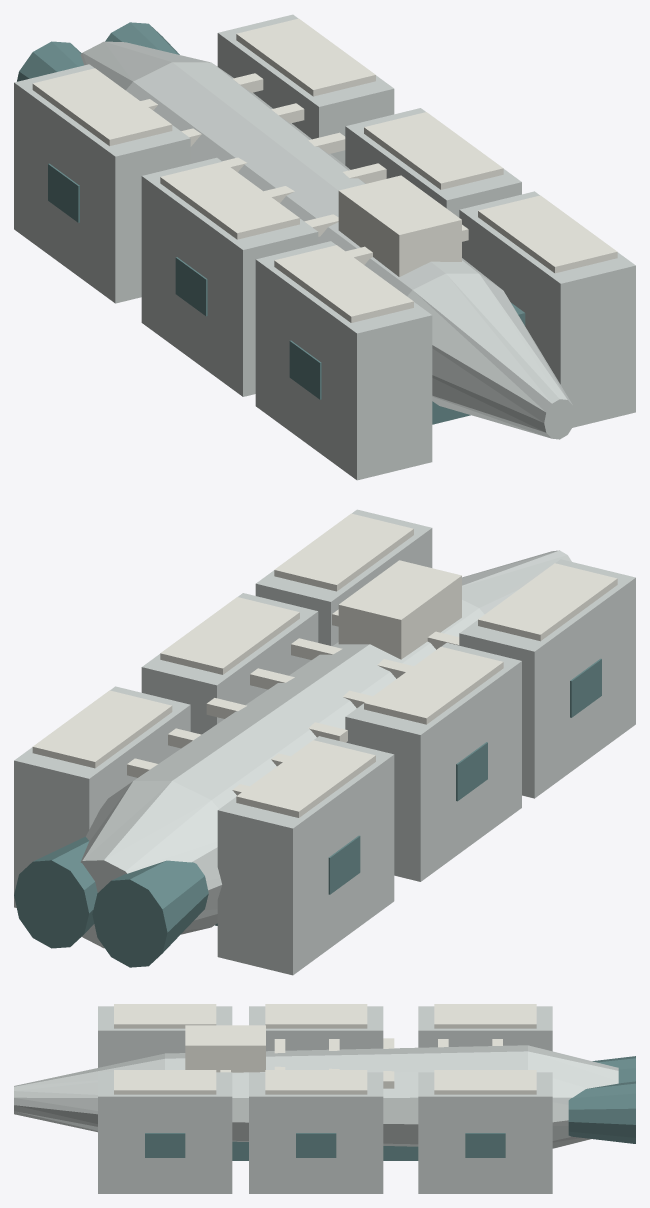
3 views of the same model, one above another, from view 1: azimuth 30°, elevation 25°; view 2: azimuth 150°, elevation 25°; view 3: azimuth 270°, elevation 25° (orthographic). The views are drawn at different scales.
Size of the model in its own units: 3.6 by 2.08 by 10.37.
